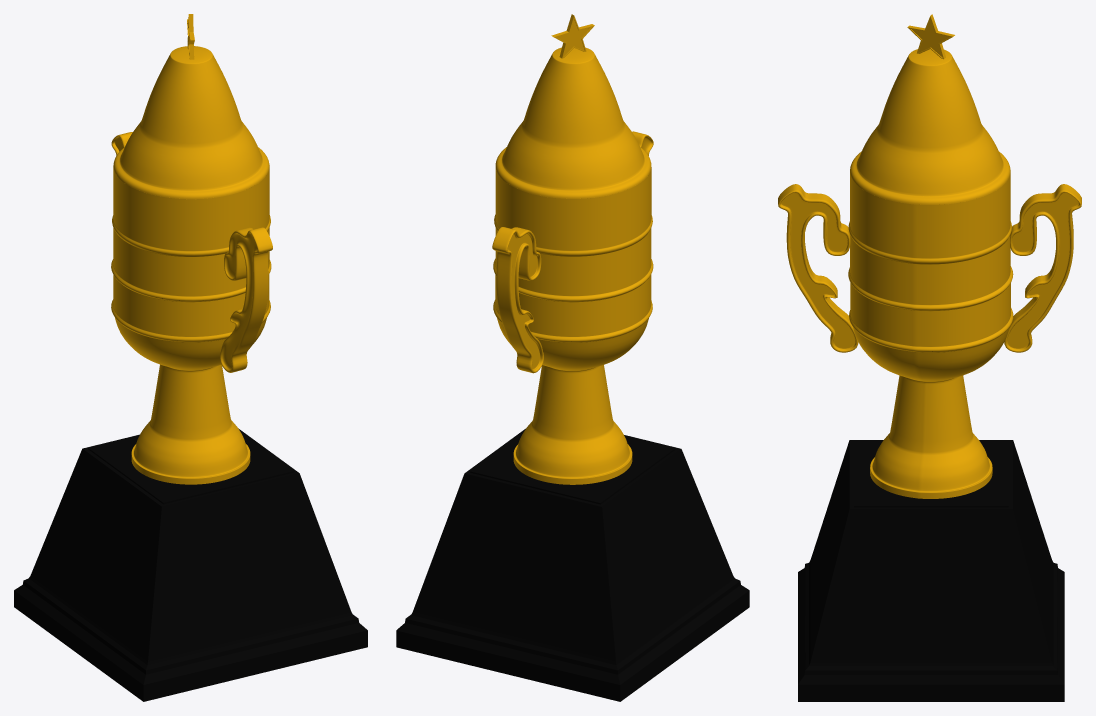
Rendered from trophy.glb.
3 views of the same model, side by side, from view 1: azimuth 30°, elevation 25°; view 2: azimuth 150°, elevation 25°; view 3: azimuth 270°, elevation 25° (orthographic). The views are drawn at different scales.
Visible parts, largest first — view 1: Plane_2, Circle_3, Star_4, Plane.001_5; view 2: Plane_2, Circle_3, Star_4, Plane.001_5, Star.001_7; view 3: Plane_2, Circle_3, Star_4, Plane.001_5, Star.001_7.
Boxes of the visible parts, left/top/right/bottom form: Plane_2: left=14, top=428, right=367, bottom=701; Circle_3: left=111, top=167, right=271, bottom=484; Star_4: left=113, top=46, right=269, bottom=199; Plane.001_5: left=111, top=132, right=272, bottom=372; Plane_2: left=396, top=428, right=749, bottom=701; Circle_3: left=493, top=167, right=653, bottom=484; Star_4: left=495, top=47, right=651, bottom=198; Plane.001_5: left=492, top=131, right=653, bottom=373; Star.001_7: left=551, top=14, right=594, bottom=58; Plane_2: left=798, top=440, right=1064, bottom=701; Circle_3: left=848, top=169, right=1013, bottom=498; Star_4: left=850, top=49, right=1010, bottom=204; Plane.001_5: left=778, top=184, right=1081, bottom=352; Star.001_7: left=907, top=14, right=954, bottom=59.
Size of the model in its own units: 2 by 5.22 by 2.28.
